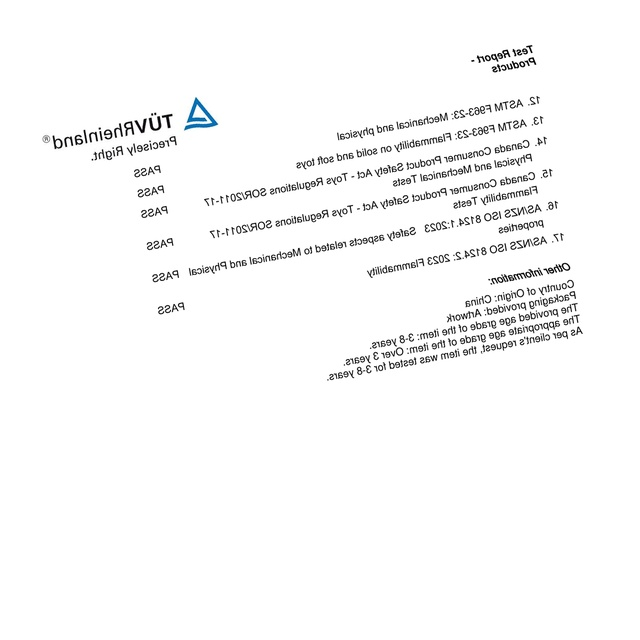tuv_rheinland: (41, 93, 221, 153)
